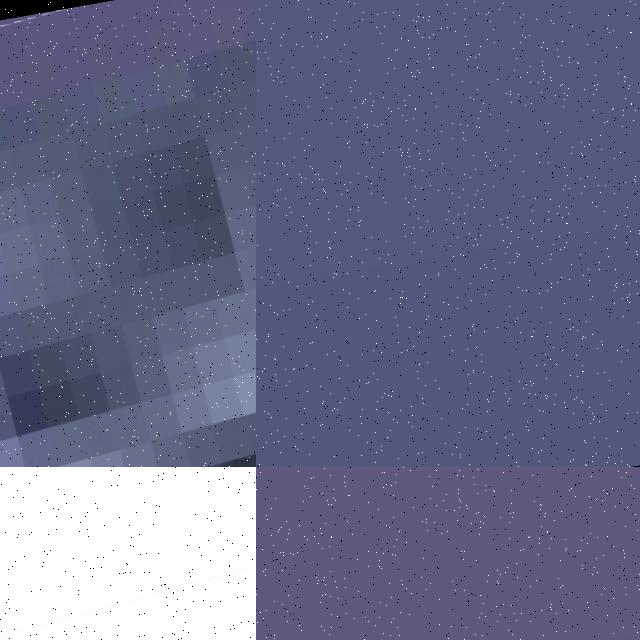0: (0, 0, 256, 467)
drone: (0, 467, 256, 640)
